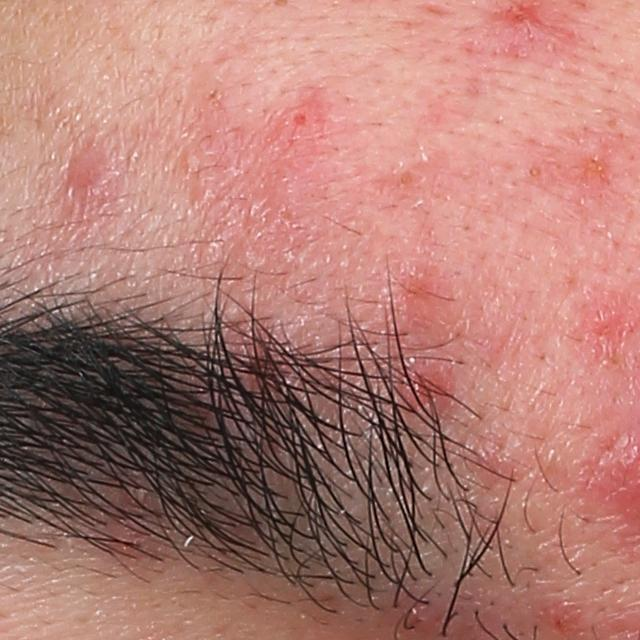comedo: (527, 162, 544, 178)
papule: (574, 300, 632, 354), (401, 356, 458, 410), (62, 149, 112, 199)
